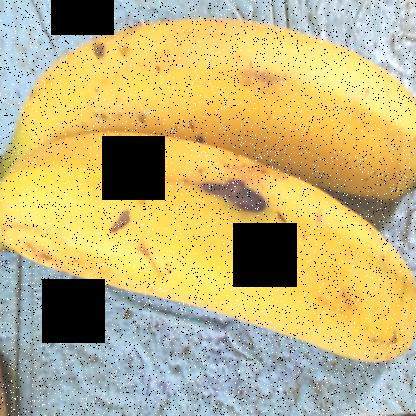freshripe: (21, 17, 416, 173)
ripe: (12, 117, 416, 381)
